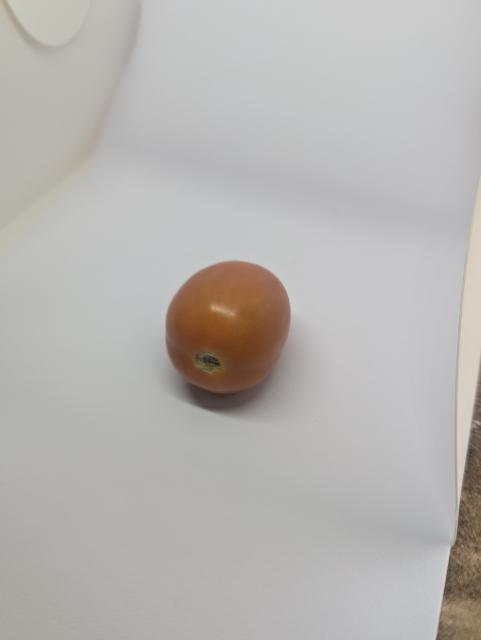turning: (160, 253, 303, 402)
